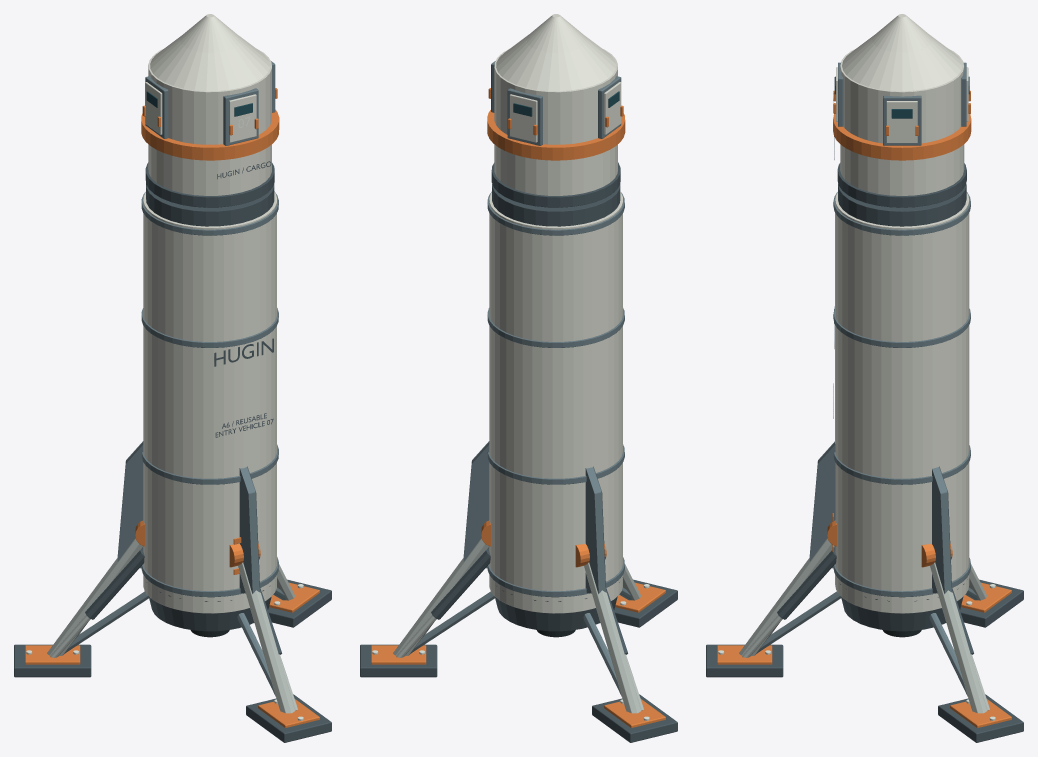
Rendered from hugin_deployed.glb.
The picture shows the model from 3 angles, left to right: view 1: azimuth 30°, elevation 25°; view 2: azimuth 150°, elevation 25°; view 3: azimuth 270°, elevation 25°; orthographic projection.
Parts seen in each view (by area): view 1: Booster propellant hull, Cargo pressure hull, Cargo ogive shoulder, Cargo mating collar, Cargo capture collar, Landing main strut, Thermal descent fin, Thermal descent fin.002, Booster engine skirt, Cargo separation ring, FLAT_LANDING_FOOT_03, Cargo nose (+16 smaller); view 2: Booster propellant hull, Cargo pressure hull, Cargo ogive shoulder, Cargo mating collar, Cargo capture collar, Landing main strut.002, Thermal descent fin.002, Thermal descent fin.001, Booster engine skirt, Cargo separation ring, FLAT_LANDING_FOOT_02, Cargo nose (+16 smaller); view 3: Booster propellant hull, Cargo pressure hull, Cargo ogive shoulder, Cargo mating collar, Cargo capture collar, Landing main strut.001, Thermal descent fin.001, Thermal descent fin, Booster engine skirt, Cargo separation ring, FLAT_LANDING_FOOT_01, Cargo nose (+15 smaller).
Part boxes in pixels (left/top/right/bottom): Booster propellant hull: left=143, top=192, right=276, bottom=613; Cargo pressure hull: left=148, top=49, right=271, bottom=195; Cargo ogive shoulder: left=150, top=35, right=270, bottom=91; Cargo mating collar: left=146, top=184, right=274, bottom=226; Cargo capture collar: left=141, top=109, right=279, bottom=160; Landing main strut: left=238, top=562, right=294, bottom=713; Thermal descent fin: left=239, top=466, right=260, bottom=593; Thermal descent fin.002: left=117, top=441, right=143, bottom=568; Booster engine skirt: left=146, top=582, right=271, bottom=631; Cargo separation ring: left=145, top=162, right=274, bottom=207; FLAT_LANDING_FOOT_03: left=14, top=644, right=91, bottom=677; Cargo nose: left=180, top=14, right=240, bottom=52; Booster propellant hull: left=489, top=192, right=622, bottom=613; Cargo pressure hull: left=494, top=49, right=617, bottom=195; Cargo ogive shoulder: left=496, top=35, right=616, bottom=91; Cargo mating collar: left=492, top=184, right=620, bottom=226; Cargo capture collar: left=487, top=110, right=625, bottom=160; Landing main strut.002: left=584, top=562, right=640, bottom=713; Thermal descent fin.002: left=585, top=466, right=606, bottom=593; Thermal descent fin.001: left=463, top=441, right=489, bottom=568; Booster engine skirt: left=495, top=577, right=622, bottom=631; Cargo separation ring: left=491, top=162, right=620, bottom=207; FLAT_LANDING_FOOT_02: left=360, top=644, right=437, bottom=677; Cargo nose: left=526, top=14, right=586, bottom=52; Booster propellant hull: left=835, top=192, right=969, bottom=613; Cargo pressure hull: left=840, top=49, right=964, bottom=195; Cargo ogive shoulder: left=842, top=35, right=962, bottom=91; Cargo mating collar: left=838, top=183, right=966, bottom=226; Cargo capture collar: left=833, top=114, right=971, bottom=160; Landing main strut.001: left=930, top=562, right=986, bottom=713; Thermal descent fin.001: left=932, top=466, right=952, bottom=593; Thermal descent fin: left=809, top=441, right=835, bottom=568; Booster engine skirt: left=840, top=579, right=967, bottom=631; Cargo separation ring: left=837, top=163, right=966, bottom=207; FLAT_LANDING_FOOT_01: left=706, top=644, right=783, bottom=677; Cargo nose: left=872, top=14, right=932, bottom=52.
Size of the model in its own units: 10.94 by 21.4 by 9.48.
